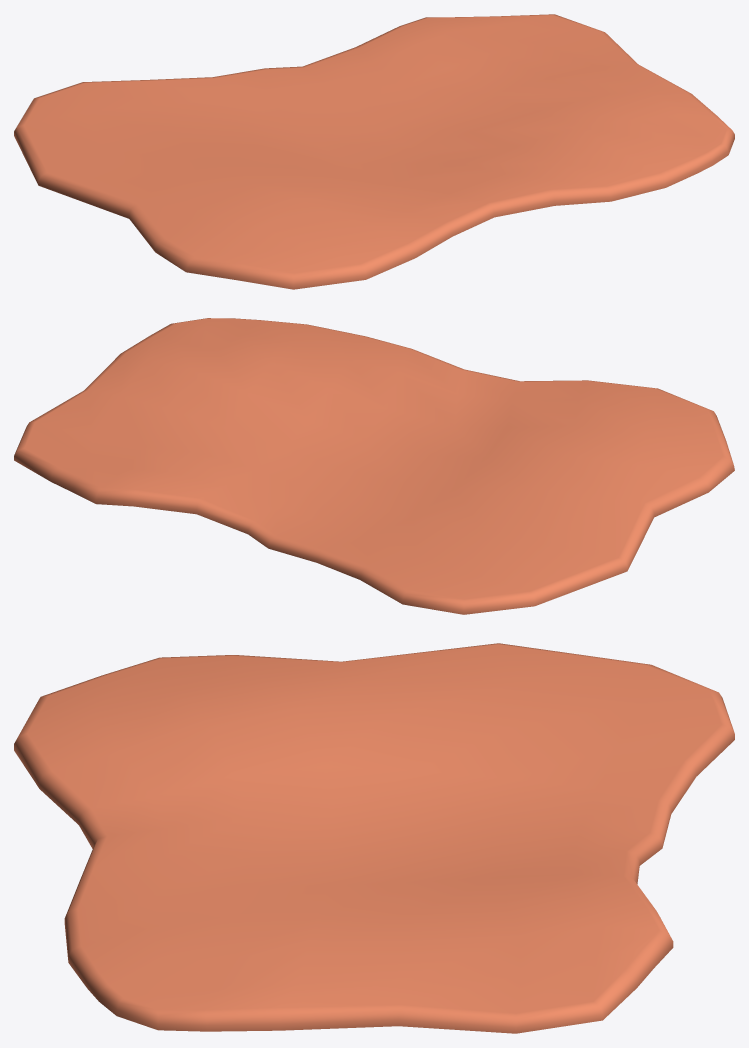
The model's file is Tuna.fbx.
3 views of the same model, one above another, from view 1: azimuth 30°, elevation 25°; view 2: azimuth 150°, elevation 25°; view 3: azimuth 270°, elevation 25° (orthographic). The views are drawn at different scales.
Visible parts, largest first — view 1: Tuna; view 2: Tuna; view 3: Tuna.
Boxes of the visible parts, left/top/right/bottom form: Tuna: left=14, top=14, right=734, bottom=289; Tuna: left=14, top=318, right=734, bottom=614; Tuna: left=14, top=643, right=734, bottom=1033.
Size of the model in its own units: 18.68 by 0.8818 by 14.99.
